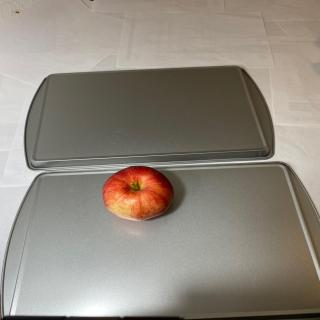Apple: (102, 166, 174, 221)
